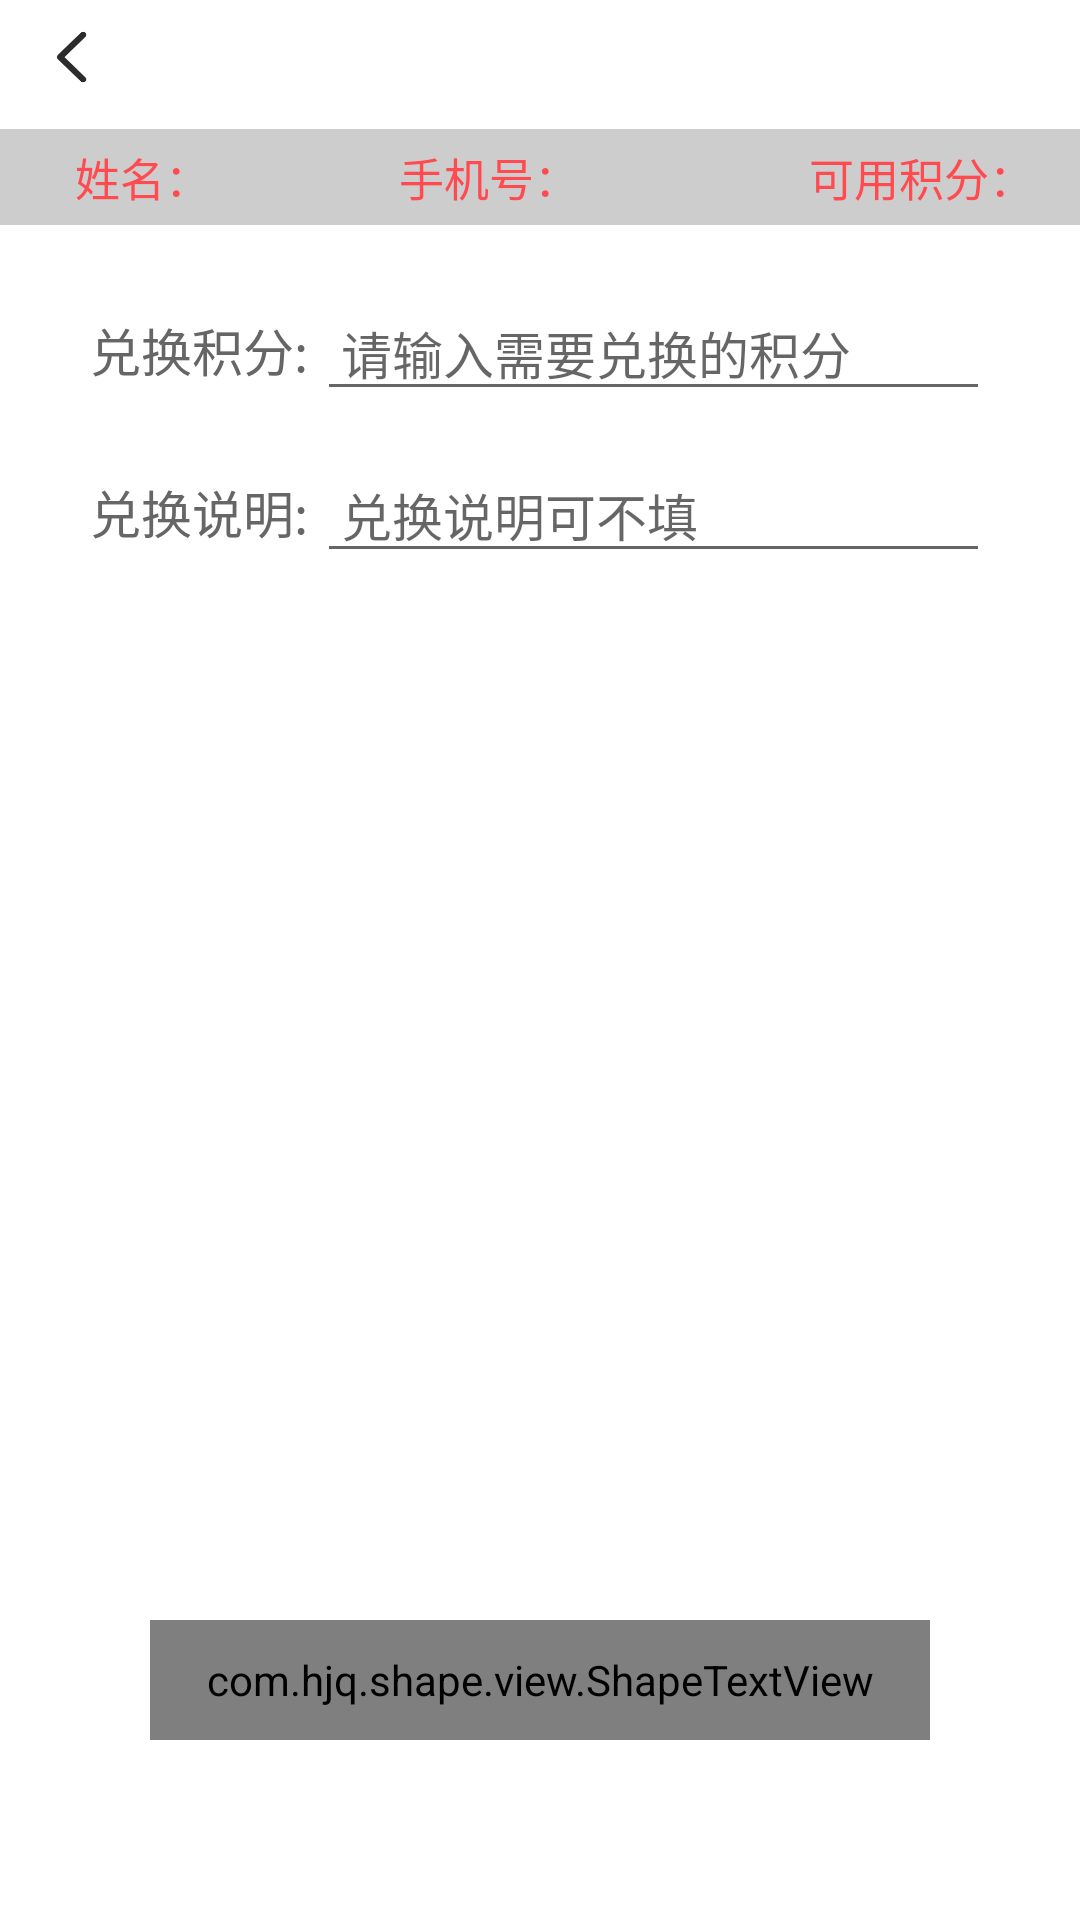

Icons on this 1080 x 1920 Android screen, each with the point to tap as (x=x, y=y):
title back: (x=72, y=57)
